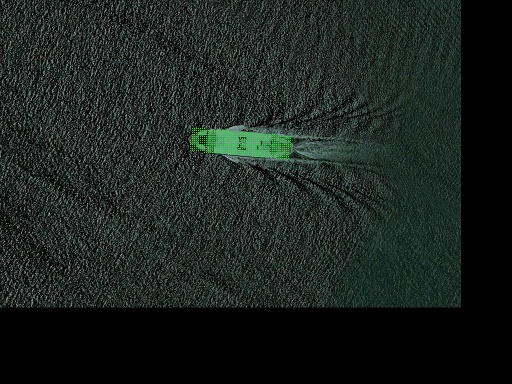ship: (185, 126, 297, 162)
